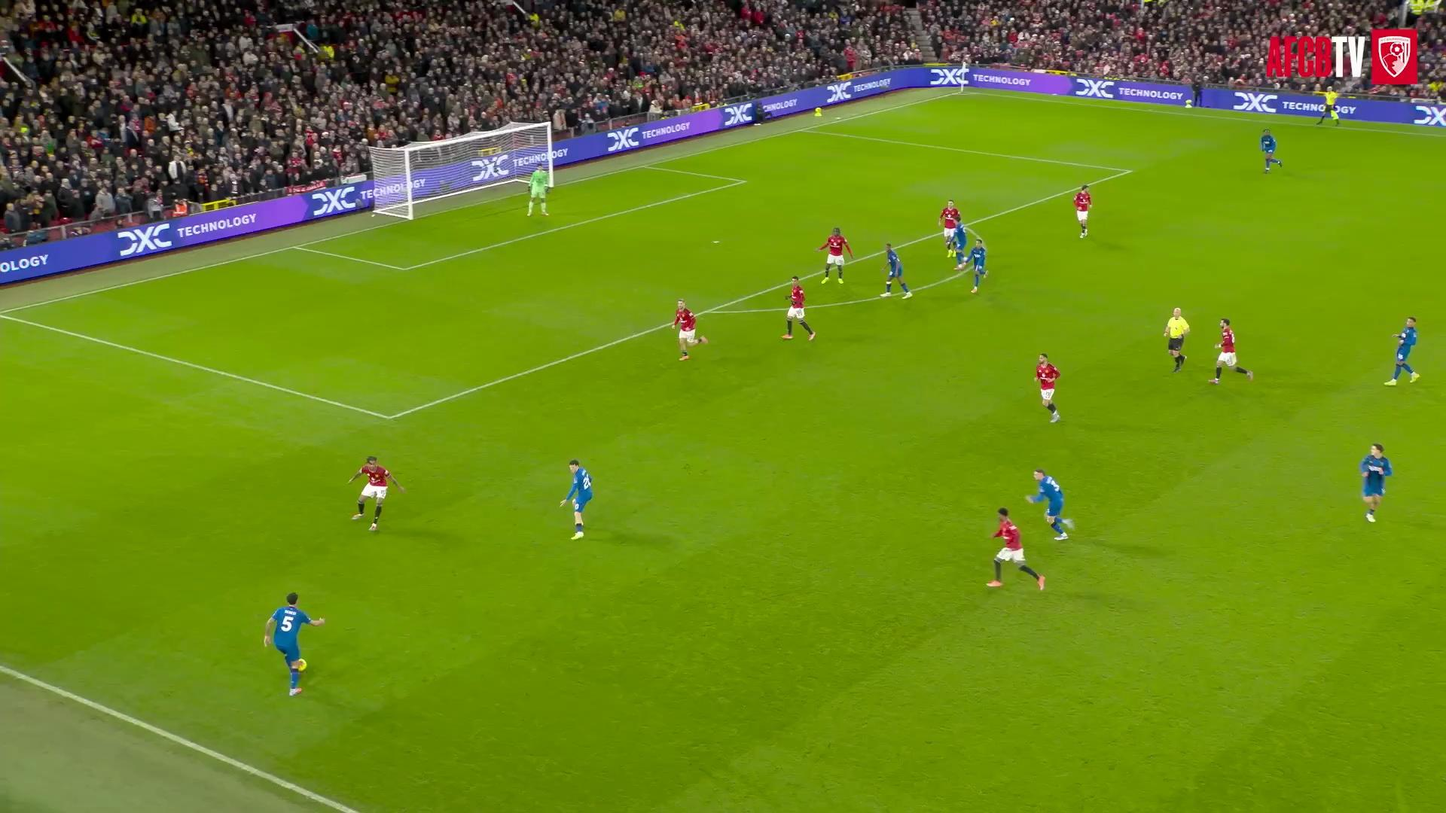player: (264, 592, 325, 696), (987, 508, 1045, 589), (348, 456, 404, 531), (1027, 469, 1073, 540), (1210, 318, 1252, 383), (1359, 443, 1392, 522), (560, 460, 592, 539), (1385, 317, 1420, 385), (782, 276, 816, 340), (673, 300, 707, 360), (816, 227, 853, 282), (880, 243, 912, 297), (1036, 353, 1060, 422), (938, 199, 962, 257), (967, 238, 987, 293), (527, 166, 548, 215), (1260, 129, 1283, 172), (1073, 184, 1091, 238), (948, 223, 968, 269)
referee: (1165, 308, 1189, 372), (1317, 88, 1340, 125)
